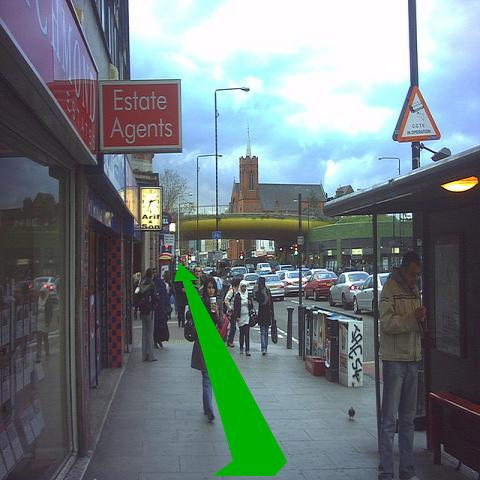car: (328, 269, 370, 309), (354, 274, 390, 314), (304, 270, 338, 302), (276, 271, 307, 297), (260, 274, 285, 302), (240, 273, 261, 295), (256, 262, 272, 274), (231, 266, 247, 275), (274, 265, 294, 271), (244, 264, 256, 273)
